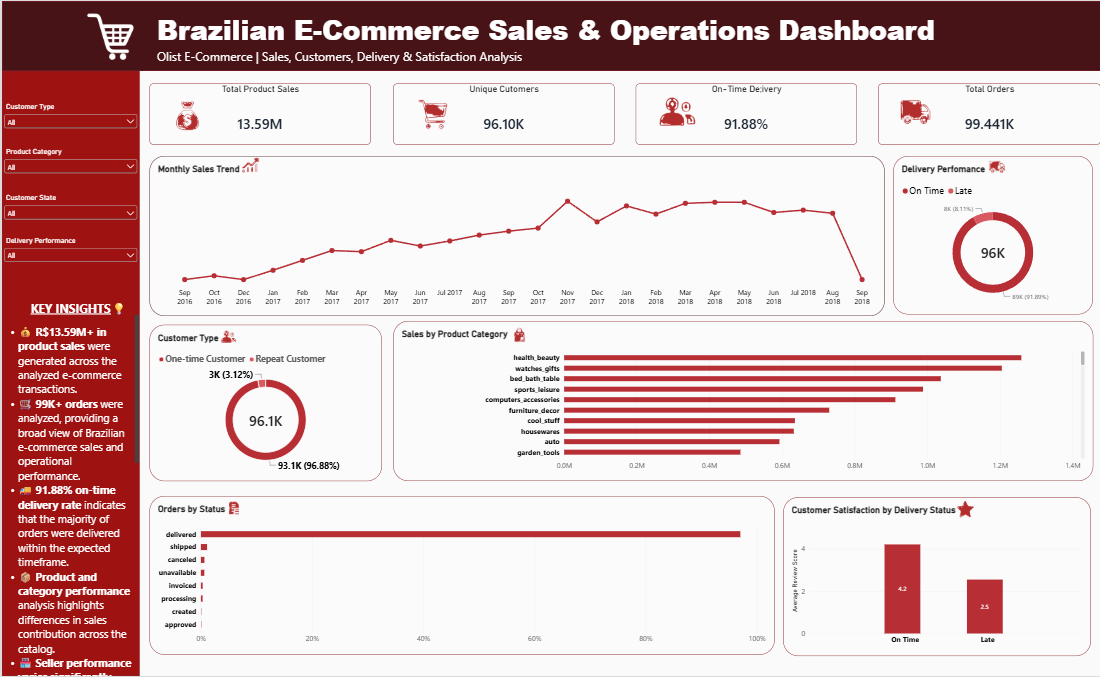

The page's visual inventory and layout, read from the dashboard file:
{"tool":"powerbi","page":{"name":"Page 1","canvas":[2200,1350],"ordinal":0},"visuals":[{"type":"shape","box":[0,0,2197.5,140],"z":0},{"type":"cardVisual","title":"Total Product Sales","fields":{"Data":["Sum(public v_olist_analysis.price)"]},"box":[295.5,166,442.5,122.5],"z":1000},{"type":"cardVisual","title":"Total Orders","fields":{"Data":["Count(public v_olist_analysis.order_id)"]},"box":[1753,166,445,122.5],"z":2000},{"type":"cardVisual","title":"Unique Cutomers","fields":{"Data":["Count(OlistAnalysis.customer_unique_id)"]},"box":[781.3,166,442.5,122.5],"z":3000},{"type":"cardVisual","title":"On-Time De;ivery","fields":{"Data":["OlistAnalysis.On-Time Delivery %"]},"box":[1267.2,166,442.5,122.5],"z":4000},{"type":"lineChart","title":"          Monthly Sales Trend","fields":{"Category":["OlistAnalysis.Month Year"],"Y":["Sum(OlistAnalysis.price)"]},"box":[294.7,309.3,1470,320],"z":5000},{"type":"clusteredBarChart","title":"Sales by Product Category","fields":{"Category":["OlistAnalysis.product_category"],"Y":["Sum(OlistAnalysis.price)"]},"box":[783,641,1400,320],"z":6000},{"type":"donutChart","title":"Delivery Perfomance","fields":{"Category":["OlistAnalysis.delivery_status"],"Y":["OlistAnalysis.Total Order"]},"box":[1781.3,309.3,398.8,316.5],"z":7000},{"type":"clusteredColumnChart","title":"Customer Satisfaction by Delivery Status","fields":{"Category":["OlistAnalysis.delivery_status"],"Y":["Avg(OlistAnalysis.average_review_score)"]},"box":[1562.5,991.5,615.5,317.3],"z":8000},{"type":"donutChart","title":"Customer Type","fields":{"Category":["OlistAnalysis.Customer Type"],"Y":["Count(OlistAnalysis.customer_unique_id)"]},"box":[295.5,648.5,465,312.5],"z":9000},{"type":"clusteredBarChart","title":"Orders by Status","fields":{"Category":["OlistAnalysis.order_status"],"Y":["OlistAnalysis.Total Order"]},"box":[295.5,991,1250,317.5],"z":10000},{"type":"textbox","box":[310,20,1713.3,120],"z":11000},{"type":"image","box":[310.7,176.9,113.6,98.2],"z":12000},{"type":"image","box":[782,166,130,110],"z":13000},{"type":"image","box":[1238,80,186,212],"z":14000},{"type":"image","box":[1736,166,150,110],"z":15000},{"type":"image","box":[454.7,309.3,83.3,85.6],"z":16000},{"type":"image","box":[991.6,614.2,76.7,81.1],"z":17000},{"type":"image","box":[1880.7,952.4,94.4,94.4],"z":18000},{"type":"image","box":[1929.7,317.7,91.7,68.3],"z":19000},{"type":"image","box":[396.2,617.8,100,78.3],"z":20000},{"type":"image","box":[414.4,968.7,90.9,71.8],"z":21000},{"type":"image","box":[157.5,25,118,93],"z":22000},{"type":"shape","box":[0,140,275,1210],"z":23000},{"type":"slicer","fields":{"Values":["OlistAnalysis.Customer Type"]},"box":[0,202.5,275,72.5],"z":24000},{"type":"slicer","fields":{"Values":["OlistAnalysis.product_category"]},"box":[0,291.4,275,72.5],"z":25000},{"type":"slicer","fields":{"Values":["OlistAnalysis.customer_state"]},"box":[0,385.7,275,72.5],"z":26000},{"type":"slicer","fields":{"Values":["OlistAnalysis.delivery_status"]},"box":[0,470,275,72.5],"z":27000},{"type":"textbox","box":[0,626.7,273.3,723.3],"z":28000},{"type":"textbox","box":[56.7,598.3,203.3,40],"z":29000}]}

Visuals, with their boxes in screenshot pixels (x1, y1, x2, y2), scaled from the page's 2200x1350 canvas onto the 1100x677 screenshot:
shape: {"left": 0, "top": 0, "right": 1099, "bottom": 70}
"Total Product Sales" cardVisual: {"left": 148, "top": 83, "right": 369, "bottom": 145}
"Total Orders" cardVisual: {"left": 876, "top": 83, "right": 1099, "bottom": 145}
"Unique Cutomers" cardVisual: {"left": 391, "top": 83, "right": 612, "bottom": 145}
"On-Time De;ivery" cardVisual: {"left": 634, "top": 83, "right": 855, "bottom": 145}
"          Monthly Sales Trend" lineChart: {"left": 147, "top": 155, "right": 882, "bottom": 316}
"Sales by Product Category" clusteredBarChart: {"left": 392, "top": 321, "right": 1092, "bottom": 482}
"Delivery Perfomance" donutChart: {"left": 891, "top": 155, "right": 1090, "bottom": 314}
"Customer Satisfaction by Delivery Status" clusteredColumnChart: {"left": 781, "top": 497, "right": 1089, "bottom": 656}
"Customer Type" donutChart: {"left": 148, "top": 325, "right": 380, "bottom": 482}
"Orders by Status" clusteredBarChart: {"left": 148, "top": 497, "right": 773, "bottom": 656}
textbox: {"left": 155, "top": 10, "right": 1012, "bottom": 70}
image: {"left": 155, "top": 89, "right": 212, "bottom": 138}
image: {"left": 391, "top": 83, "right": 456, "bottom": 138}
image: {"left": 619, "top": 40, "right": 712, "bottom": 146}
image: {"left": 868, "top": 83, "right": 943, "bottom": 138}
image: {"left": 227, "top": 155, "right": 269, "bottom": 198}
image: {"left": 496, "top": 308, "right": 534, "bottom": 349}
image: {"left": 940, "top": 478, "right": 988, "bottom": 525}
image: {"left": 965, "top": 159, "right": 1011, "bottom": 194}
image: {"left": 198, "top": 310, "right": 248, "bottom": 349}
image: {"left": 207, "top": 486, "right": 253, "bottom": 522}
image: {"left": 79, "top": 13, "right": 138, "bottom": 59}
shape: {"left": 0, "top": 70, "right": 138, "bottom": 676}
slicer - OlistAnalysis.Customer Type: {"left": 0, "top": 102, "right": 138, "bottom": 138}
slicer - OlistAnalysis.product_category: {"left": 0, "top": 146, "right": 138, "bottom": 182}
slicer - OlistAnalysis.customer_state: {"left": 0, "top": 193, "right": 138, "bottom": 230}
slicer - OlistAnalysis.delivery_status: {"left": 0, "top": 236, "right": 138, "bottom": 272}
textbox: {"left": 0, "top": 314, "right": 137, "bottom": 676}
textbox: {"left": 28, "top": 300, "right": 130, "bottom": 320}
